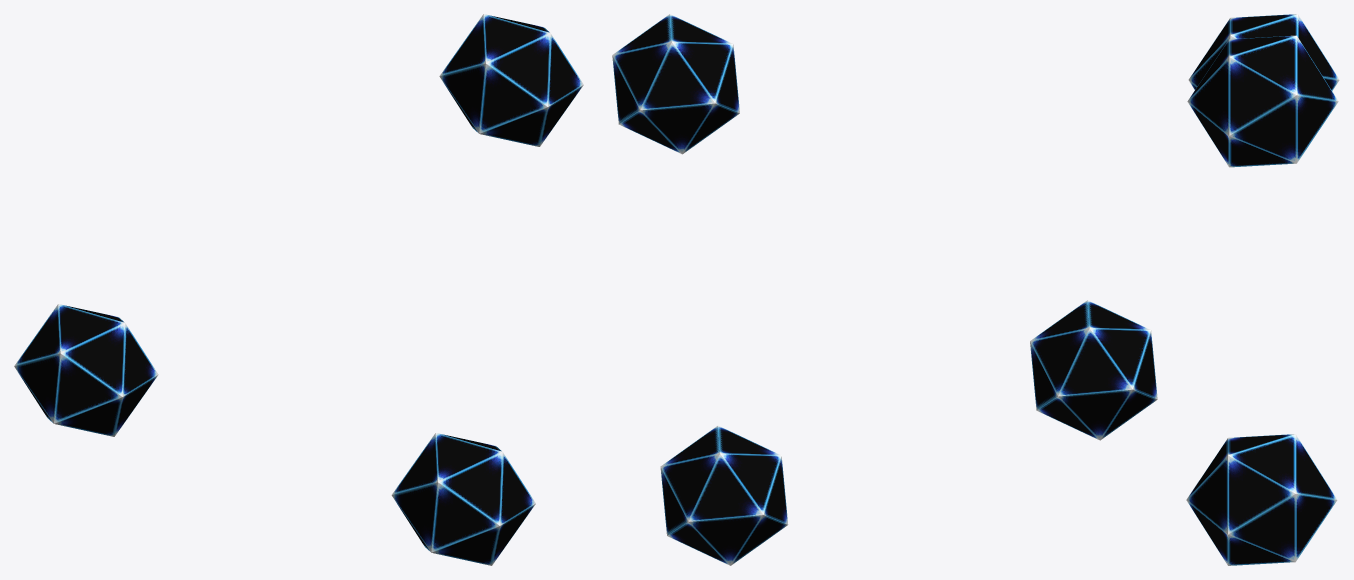
Rendered from tx_soulhunter_xinlinghudun.obj.
3 renders of one model, left to right at view 1: azimuth 30°, elevation 25°; view 2: azimuth 150°, elevation 25°; view 3: azimuth 270°, elevation 25°, orthographic. The views are drawn at different scales.
Visible parts, largest first — view 1: GeoSphere02, GeoSphere03, GeoSphere01; view 2: GeoSphere03, GeoSphere02, GeoSphere01; view 3: GeoSphere02, GeoSphere03, GeoSphere01.
Part boxes in pixels (x1=…): GeoSphere02: x1=391, y1=433, x2=535, y2=565; GeoSphere03: x1=439, y1=14, x2=583, y2=146; GeoSphere01: x1=14, y1=304, x2=158, y2=436; GeoSphere03: x1=612, y1=14, x2=739, y2=154; GeoSphere02: x1=660, y1=425, x2=788, y2=565; GeoSphere01: x1=1030, y1=300, x2=1157, y2=440; GeoSphere02: x1=1186, y1=434, x2=1337, y2=565; GeoSphere03: x1=1187, y1=35, x2=1338, y2=167; GeoSphere01: x1=1188, y1=14, x2=1339, y2=90.
Bounding box in the file's own units: 100 × 93.32 × 23.91.
1 material, 1 textured.
